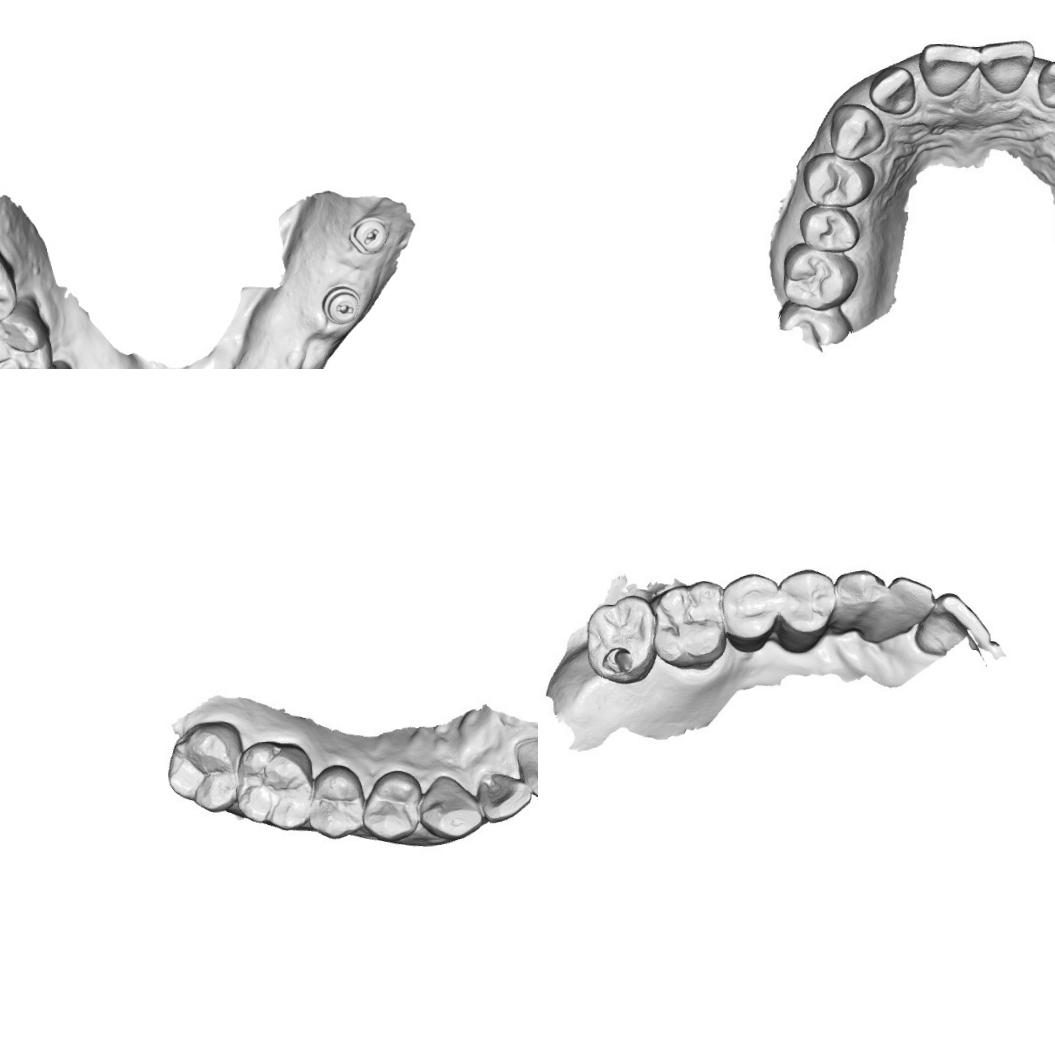canine: (414, 773, 486, 844), (826, 562, 884, 640), (821, 97, 887, 159)
implant_minus: (345, 215, 392, 258), (317, 282, 362, 326)
incisor: (872, 571, 936, 648), (979, 39, 1035, 98), (920, 43, 980, 94), (474, 769, 532, 820), (872, 67, 916, 114), (516, 736, 538, 796), (1034, 57, 1055, 106)
molar: (576, 592, 660, 686), (649, 577, 728, 672), (229, 742, 312, 831), (771, 238, 864, 314), (162, 720, 239, 811), (0, 298, 55, 369), (0, 232, 20, 331)
premolar: (773, 566, 836, 654), (718, 571, 781, 652), (304, 760, 364, 842), (357, 766, 423, 839), (799, 204, 861, 256), (806, 154, 871, 203)
